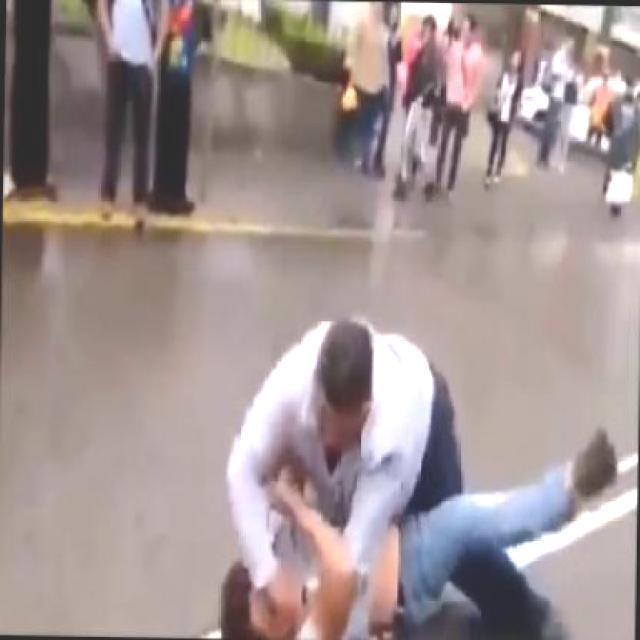fight: (202, 292, 624, 638)
